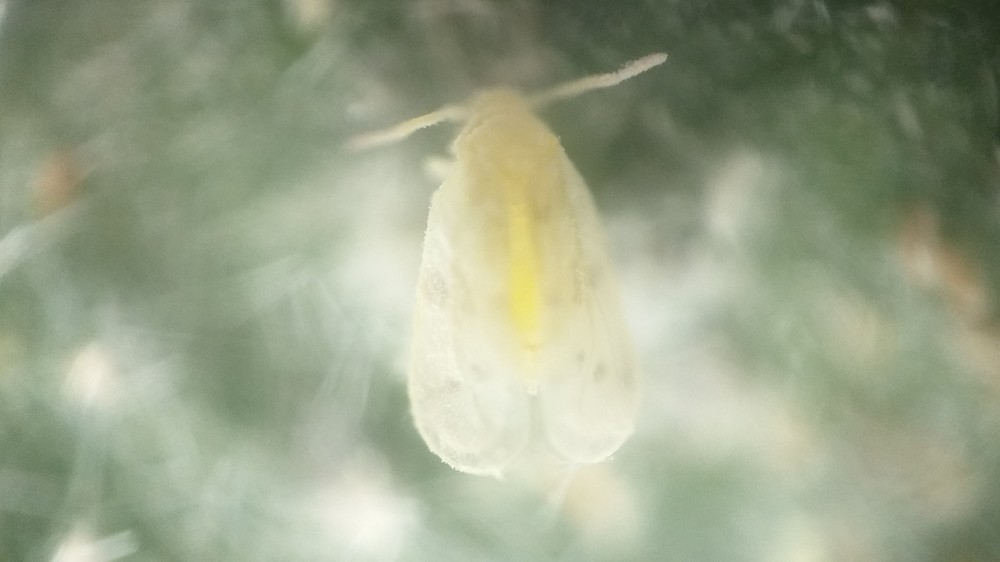Mosca Blanca: (316, 50, 707, 497)
